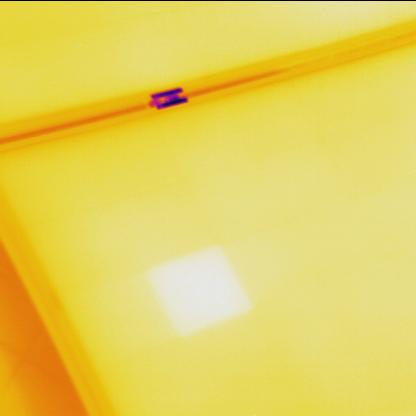hotspot: (145, 242, 254, 342)
